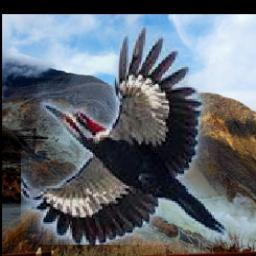Woodpecker: (20, 26, 226, 245)
